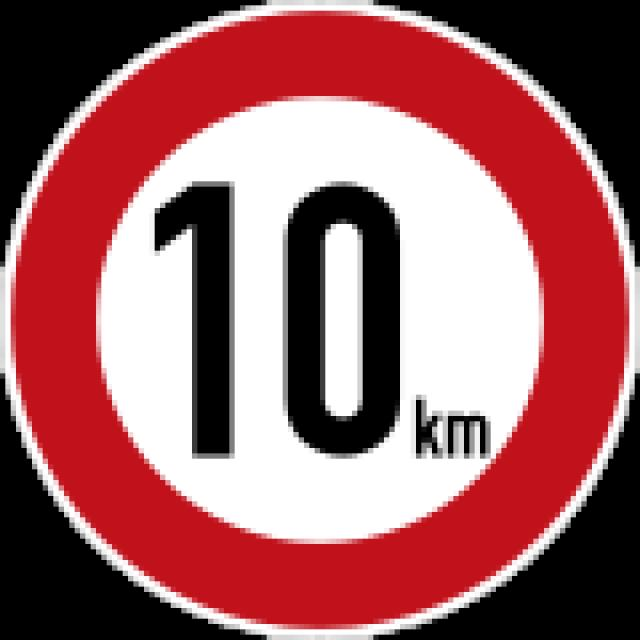Speed Limit -10-: (147, 173, 411, 465)
